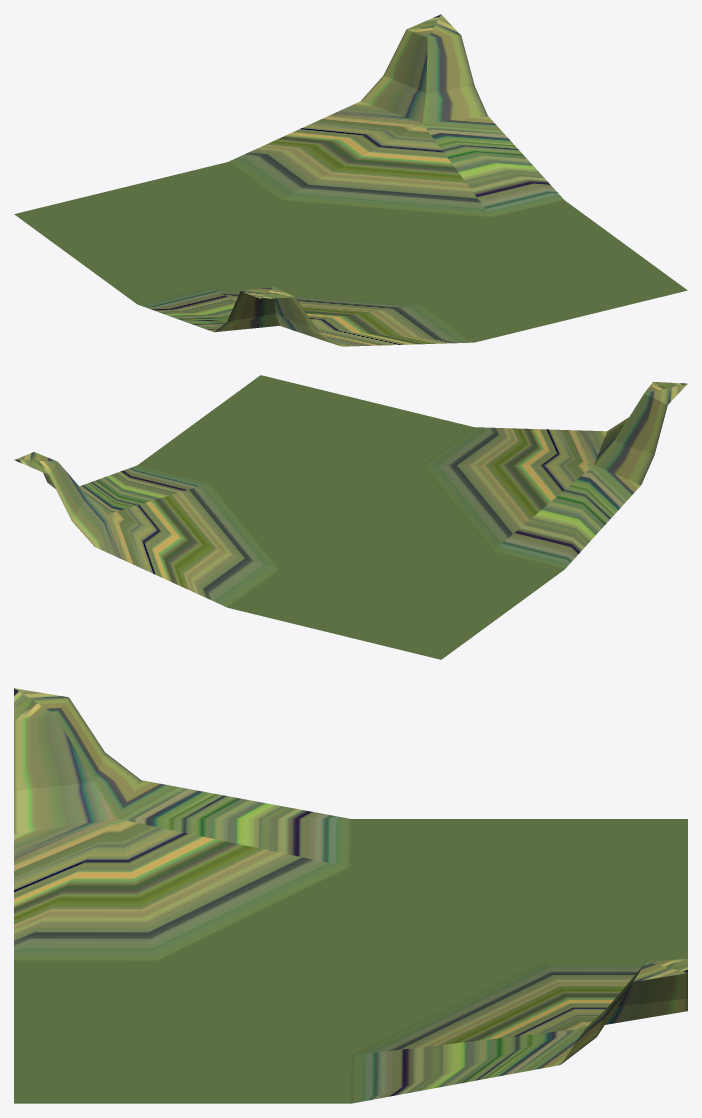
Rendered from Mesh_WaterTile2InsideCornersOpposite.fbx.
The picture shows the model from 3 angles, top to bottom: view 1: azimuth 30°, elevation 25°; view 2: azimuth 150°, elevation 25°; view 3: azimuth 270°, elevation 25°; orthographic projection. The views are drawn at different scales.
Visible parts, largest first — view 1: WaterTile2InsideCornersOpposite; view 2: WaterTile2InsideCornersOpposite; view 3: WaterTile2InsideCornersOpposite.
Boxes of the visible parts, x1,y1,x2,y2 form: WaterTile2InsideCornersOpposite: (14,14,687,346); WaterTile2InsideCornersOpposite: (14,375,687,659); WaterTile2InsideCornersOpposite: (14,688,687,1103).
Size of the model in its own units: 10000 by 2140 by 10000.
